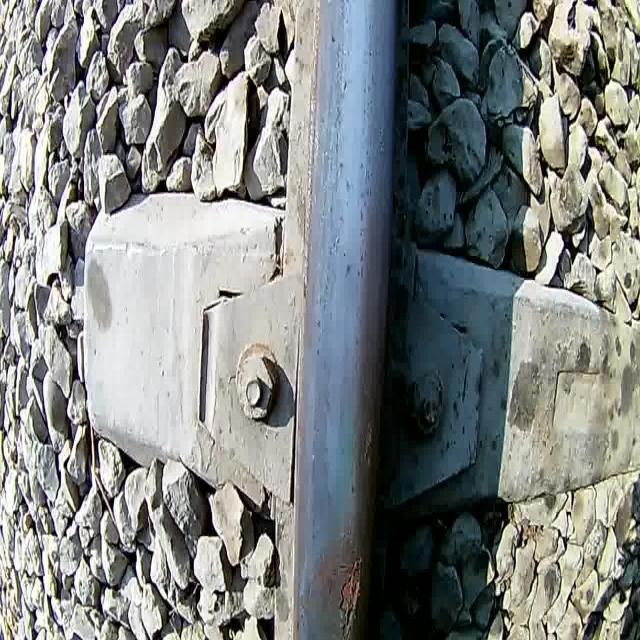Spallings: (334, 546, 365, 640)
Squats: (295, 521, 367, 640)
